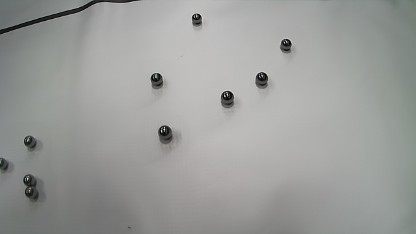ironball: (221, 90, 234, 107), (158, 125, 172, 140), (150, 73, 163, 89), (23, 174, 36, 187), (25, 186, 38, 199), (256, 72, 268, 86), (24, 135, 36, 148), (280, 38, 291, 51), (192, 13, 202, 26), (0, 157, 8, 170)
